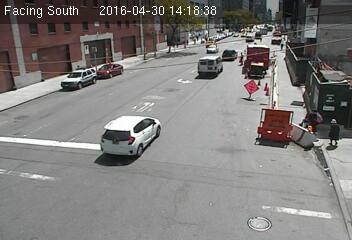neg: (123, 16, 141, 40), (82, 53, 99, 76), (152, 58, 167, 78), (239, 14, 249, 27), (201, 27, 210, 38)
pos: (295, 107, 325, 146), (320, 115, 346, 149), (235, 49, 247, 65), (278, 40, 287, 51)
